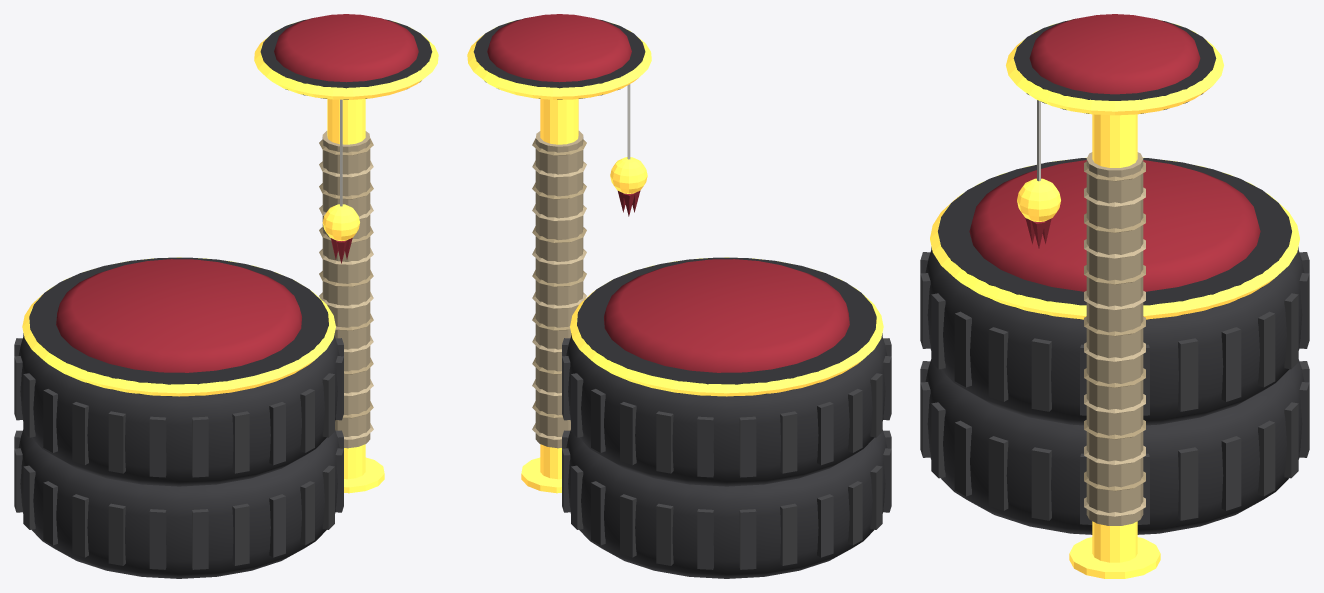
File: lux_cat_tower.glb
The picture shows the model from 3 angles, left to right: view 1: azimuth 30°, elevation 25°; view 2: azimuth 150°, elevation 25°; view 3: azimuth 270°, elevation 25°; orthographic projection. The views are drawn at different scales.
Parts seen in each view (by area): view 1: lux_cat_tower; view 2: lux_cat_tower; view 3: lux_cat_tower.
Part boxes in pixels (x1,y1,x2,y2): lux_cat_tower: (14,14,438,578); lux_cat_tower: (467,14,891,578); lux_cat_tower: (920,14,1309,578).
Size of the model in its own units: 1.05 by 1.14 by 0.7683.
